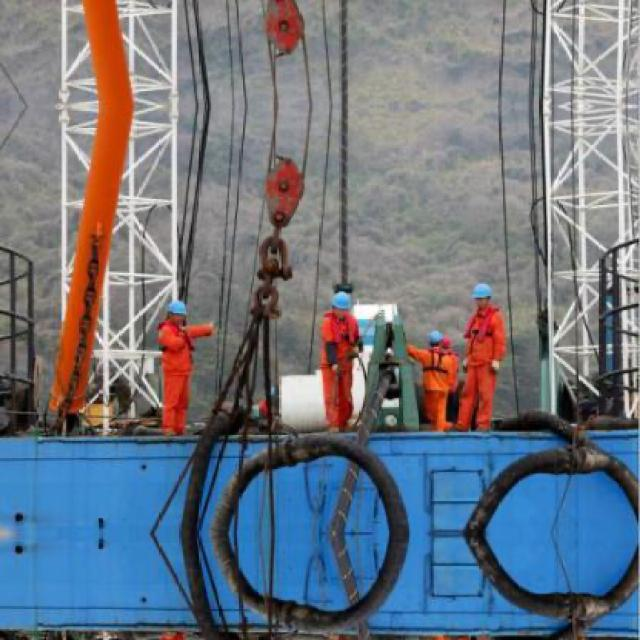con casco: (461, 245, 518, 350), (290, 267, 366, 332), (398, 311, 468, 363), (140, 282, 192, 340)
